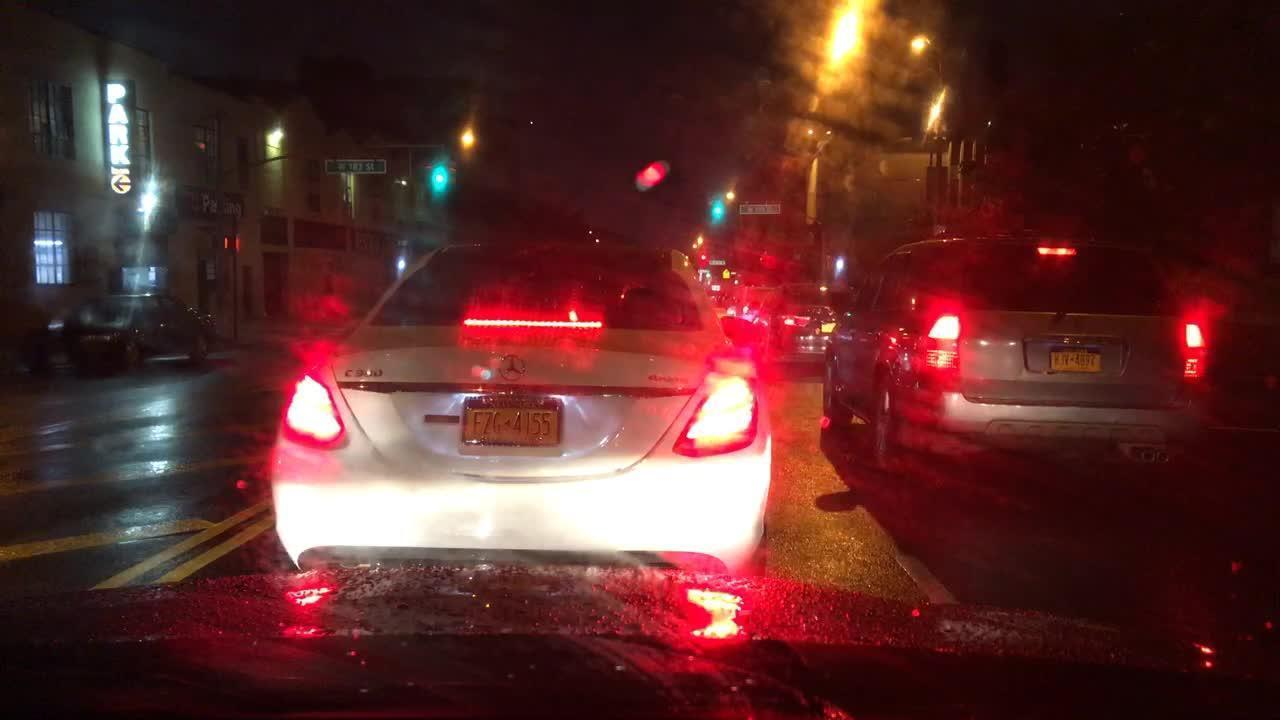Mercedes: (494, 349, 528, 386)
